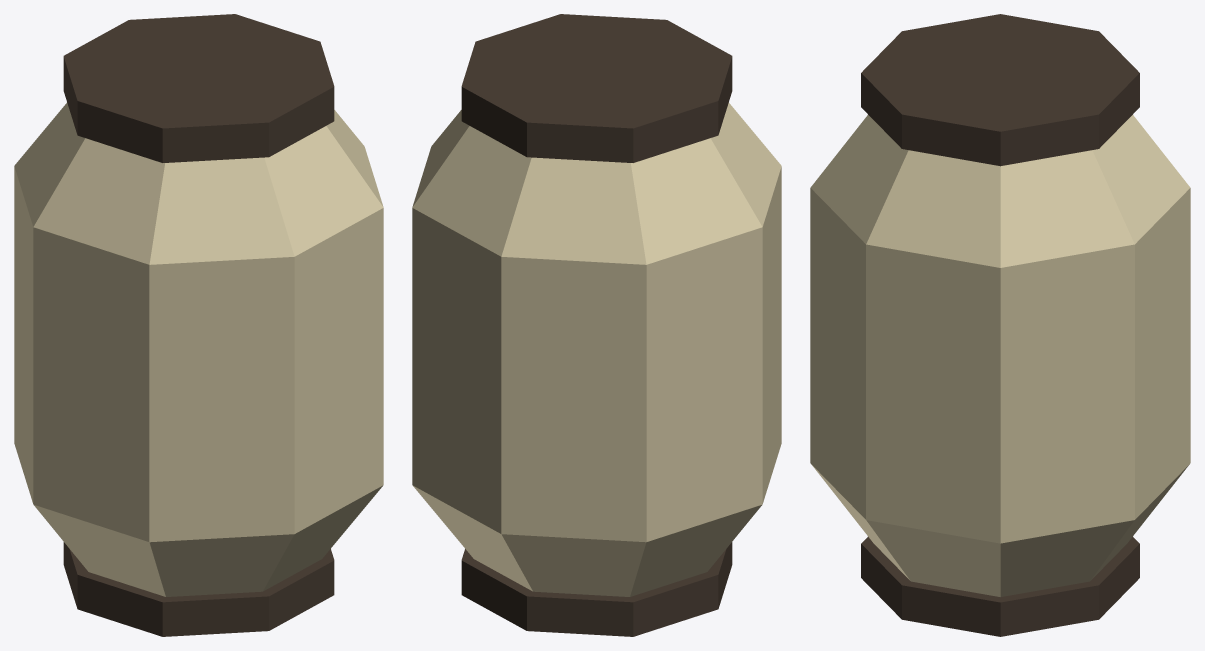
The model's file is module_paper_lantern.glb.
3 renders of one model, left to right at view 1: azimuth 30°, elevation 25°; view 2: azimuth 150°, elevation 25°; view 3: azimuth 270°, elevation 25°, orthographic.
Visible parts, largest first — view 1: lantern, top, base; view 2: lantern, top, base; view 3: lantern, top, base.
Part boxes in pixels (bbox=[...]): lantern: bbox=[14, 102, 383, 596]; top: bbox=[63, 14, 334, 162]; base: bbox=[63, 542, 334, 636]; lantern: bbox=[412, 102, 781, 596]; top: bbox=[461, 14, 732, 162]; base: bbox=[461, 542, 732, 636]; lantern: bbox=[810, 115, 1190, 596]; top: bbox=[861, 14, 1139, 166]; base: bbox=[861, 536, 1139, 636].
Bounding box in the file's own units: 0.3 × 0.44 × 0.3.
